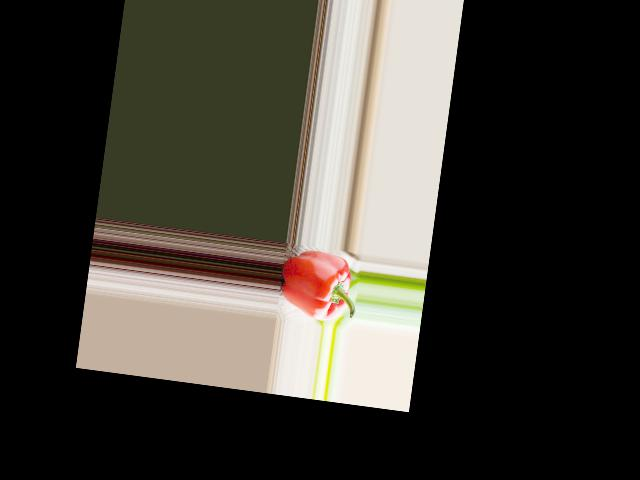bell_pepper: (275, 248, 360, 326)
